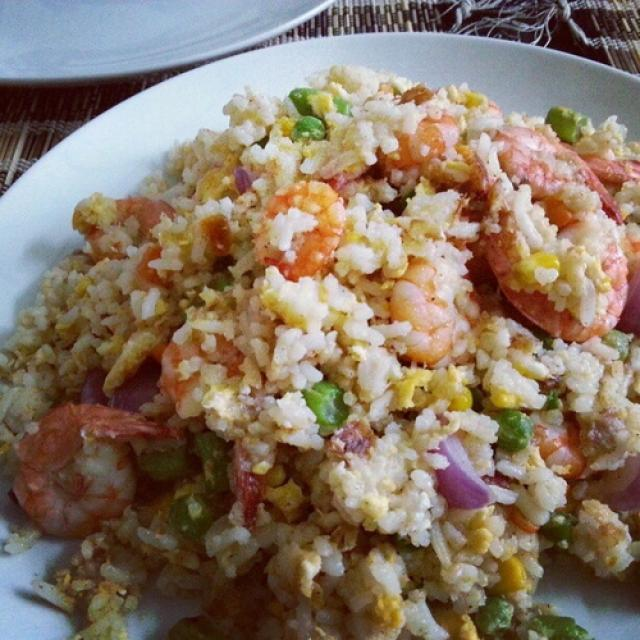米饭主食: (19, 42, 617, 621)
